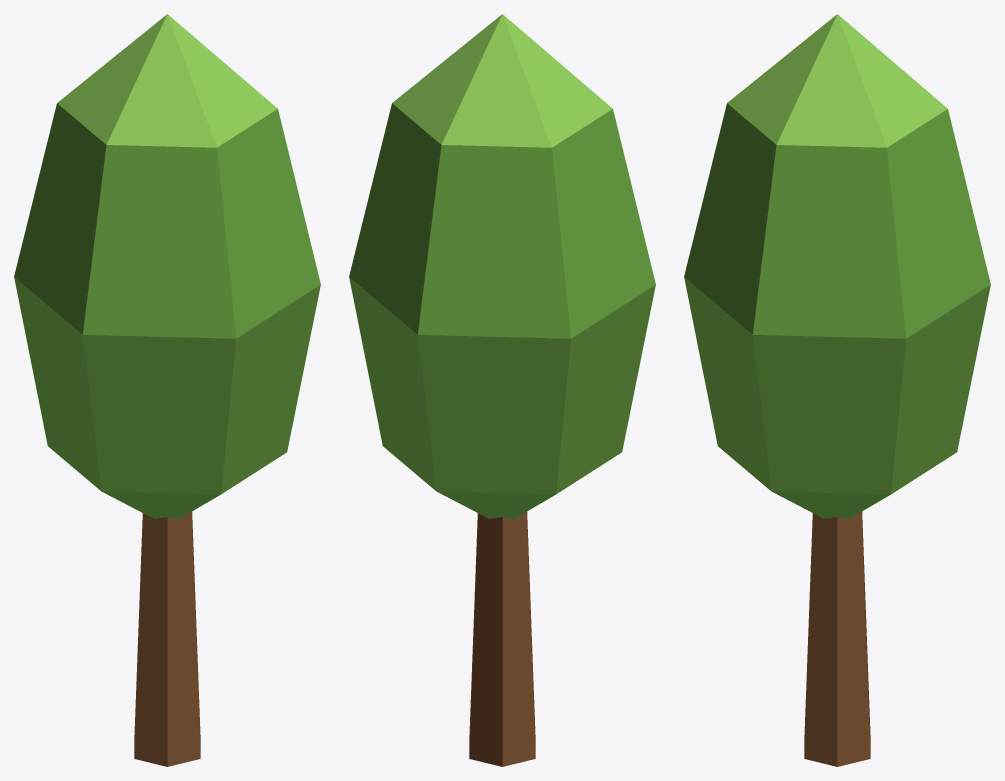
The model's file is tree_small.glb.
The picture shows the model from 3 angles, left to right: view 1: azimuth 30°, elevation 25°; view 2: azimuth 150°, elevation 25°; view 3: azimuth 270°, elevation 25°; orthographic projection.
Parts seen in each view (by area): view 1: tree_small; view 2: tree_small; view 3: tree_small.
Boxes of the visible parts, bbox=[...] form: tree_small: bbox=[14, 14, 320, 766]; tree_small: bbox=[349, 14, 655, 766]; tree_small: bbox=[684, 14, 990, 766].
Bounding box in the file's own units: 0.322 × 0.9519 × 0.3593.
1 material, 1 textured.
